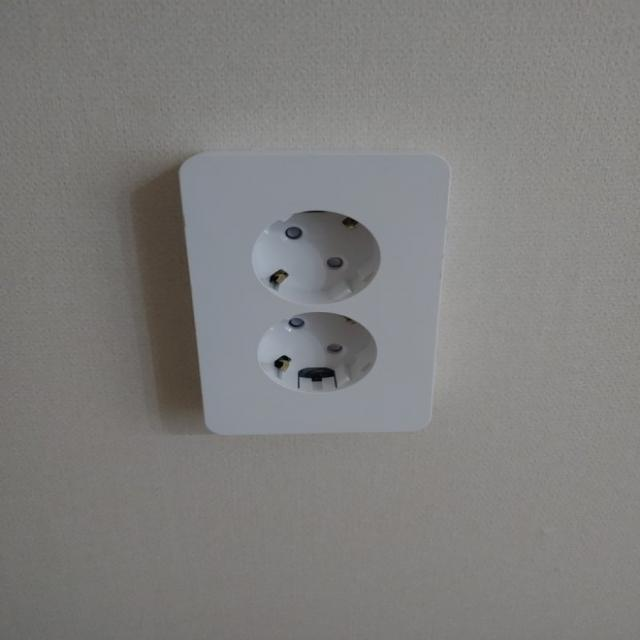typeb: (114, 113, 508, 556)
